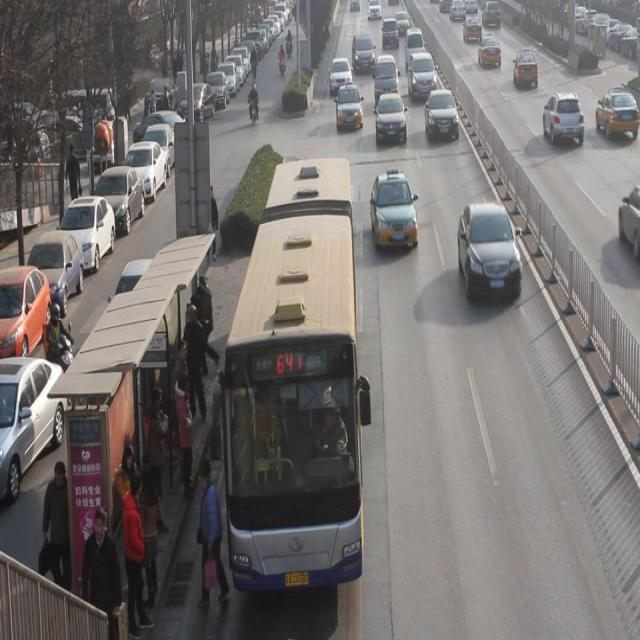car: (457, 202, 523, 299), (369, 173, 418, 250), (596, 86, 640, 141), (542, 92, 584, 146), (424, 88, 459, 143), (376, 93, 408, 145), (408, 51, 437, 97), (337, 84, 362, 130), (513, 49, 538, 88), (351, 33, 374, 74), (330, 56, 352, 96), (478, 31, 502, 67), (382, 17, 399, 49), (463, 16, 483, 42)
truck: (374, 55, 399, 99), (404, 29, 425, 67)
van: (222, 156, 361, 587)
